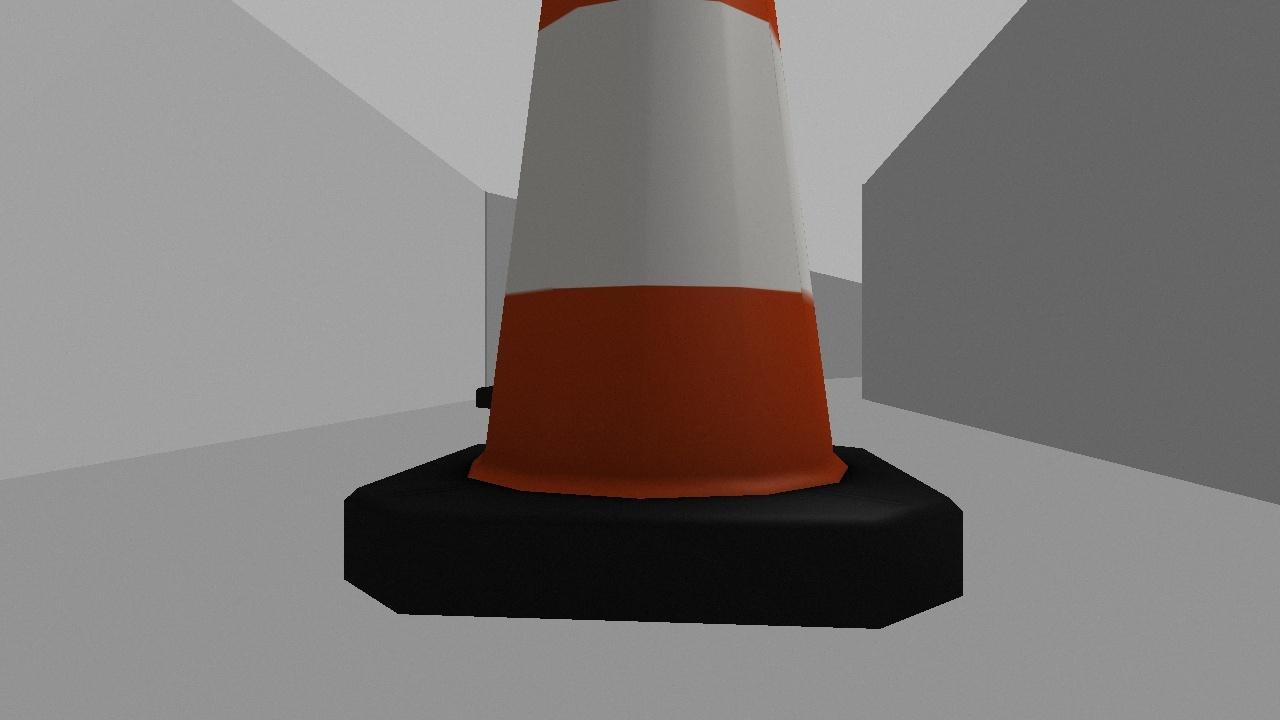cone_barrel: (313, 0, 991, 654)
